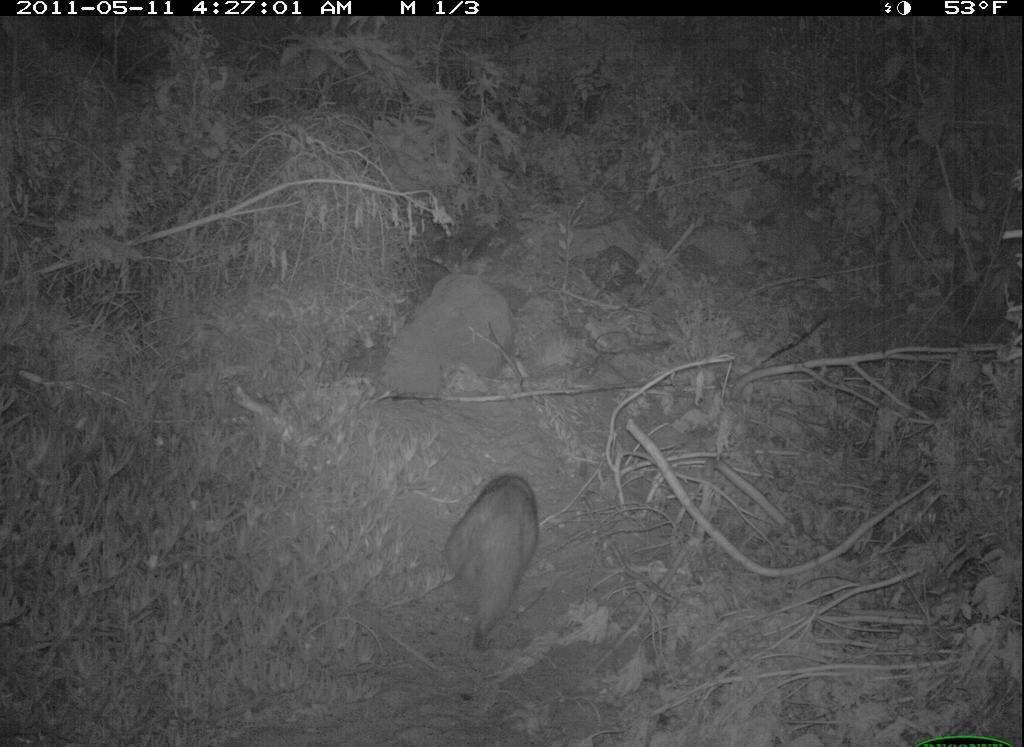raccoon: (420, 464, 548, 661)
